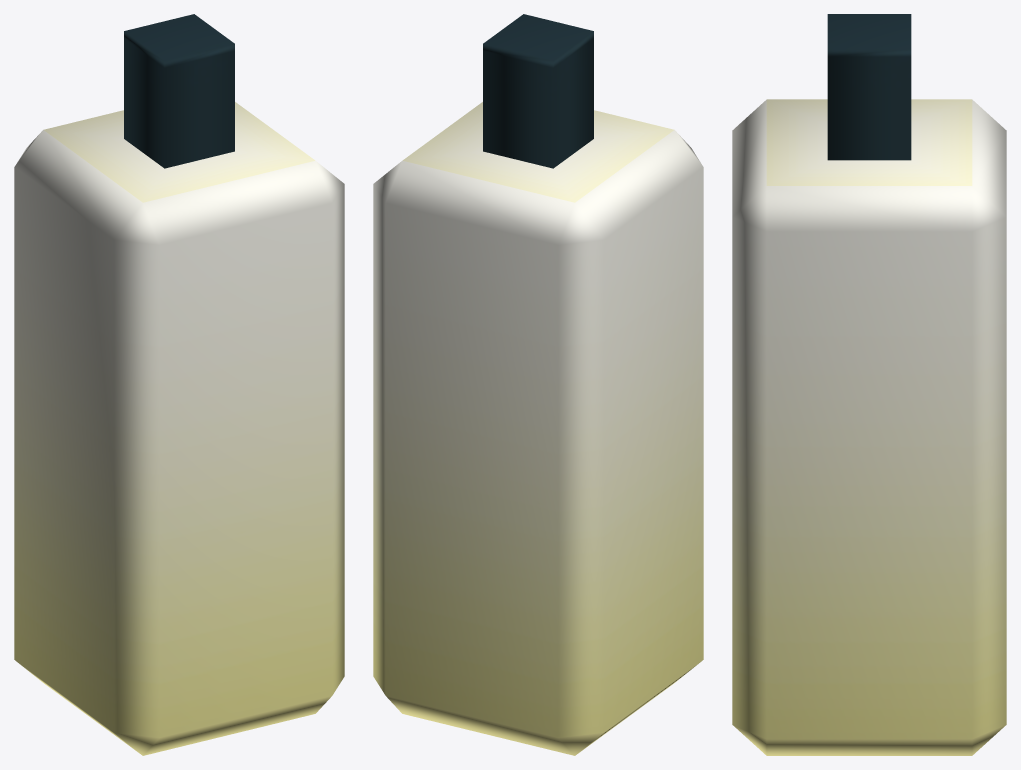
The model's file is candle_medium_1.fbx.
3 views of the same model, side by side, from view 1: azimuth 30°, elevation 25°; view 2: azimuth 150°, elevation 25°; view 3: azimuth 270°, elevation 25° (orthographic). The views are drawn at different scales.
Visible parts, largest first — view 1: candle_medium_1; view 2: candle_medium_1; view 3: candle_medium_1.
Boxes of the visible parts, bbox=[...] form: candle_medium_1: bbox=[14, 14, 344, 755]; candle_medium_1: bbox=[373, 14, 703, 755]; candle_medium_1: bbox=[732, 14, 1006, 755].
Bounding box in the file's own units: 26.94 × 73.87 × 26.94.
Materials: 1 (1 with a texture image).
